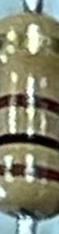Black: (0, 128, 59, 152)
Brown: (0, 160, 59, 183), (0, 92, 58, 115)
Side-Gold: (0, 32, 59, 55)
